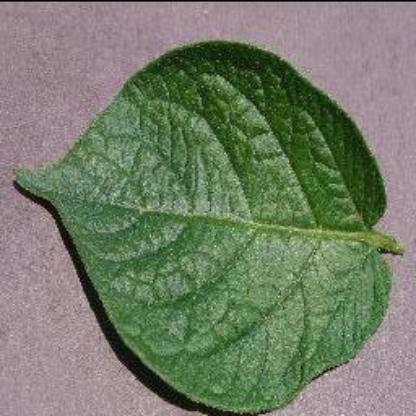Healthy-plant: (10, 32, 402, 416)
